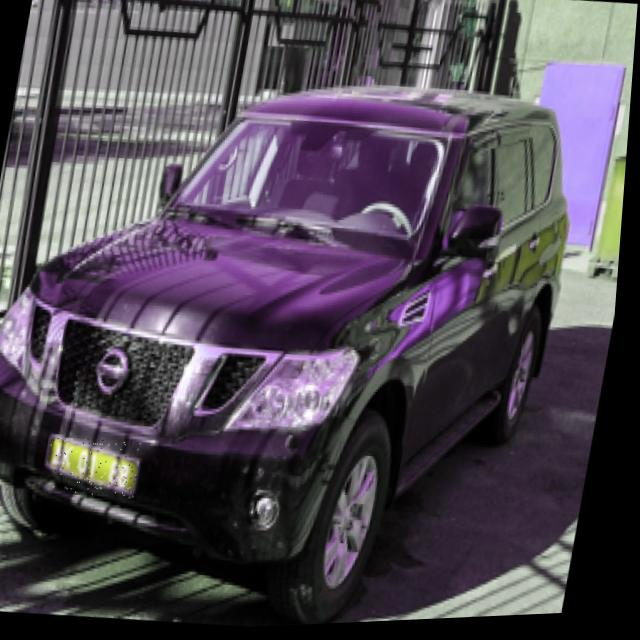license_plate: (48, 434, 150, 502)
